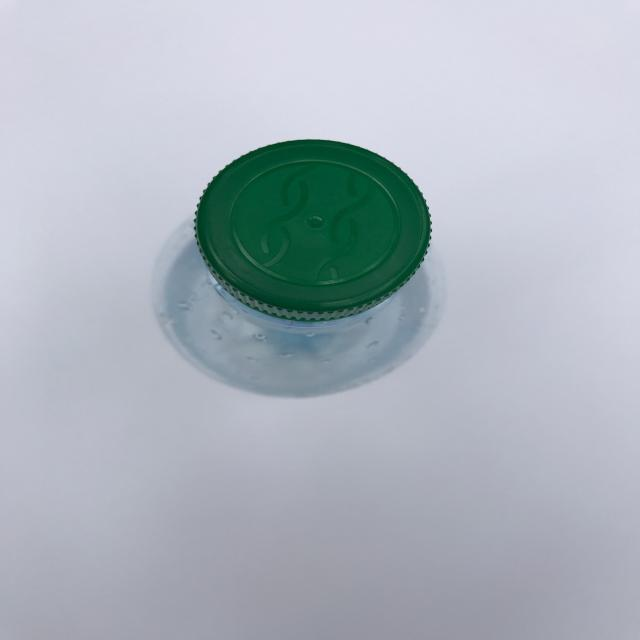plastic: (136, 127, 462, 410)
